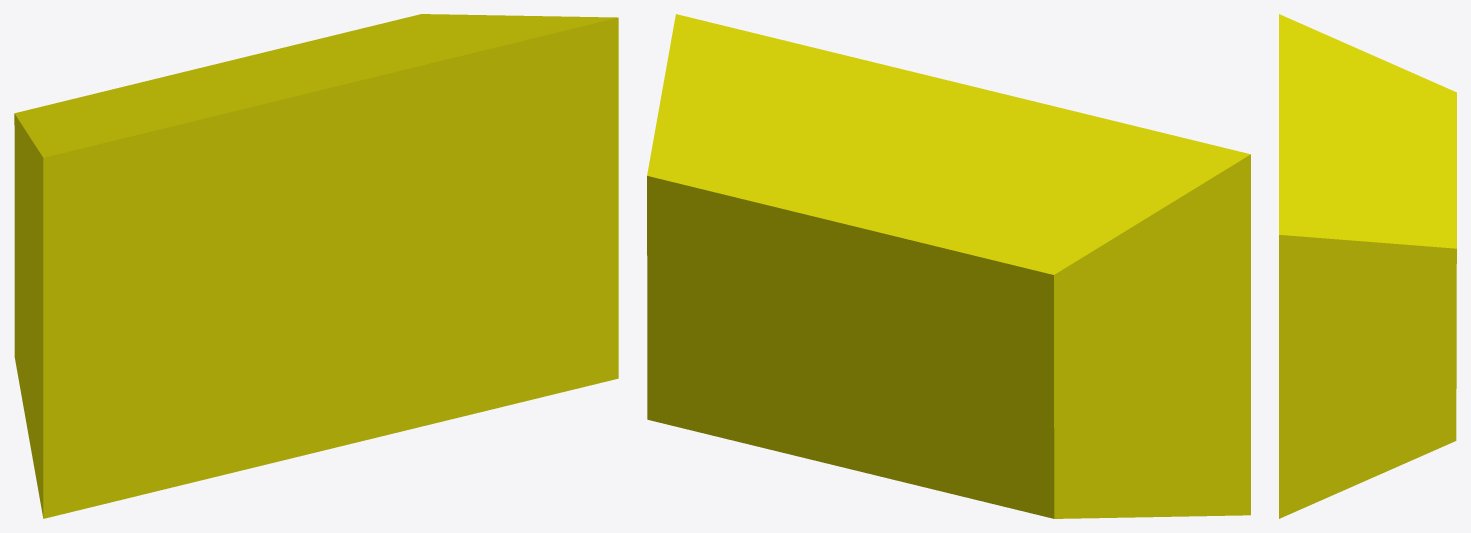
Rendered from GoldBar.fbx.
The picture shows the model from 3 angles, left to right: view 1: azimuth 30°, elevation 25°; view 2: azimuth 150°, elevation 25°; view 3: azimuth 270°, elevation 25°; orthographic projection. The views are drawn at different scales.
Visible parts, largest first — view 1: pCube7; view 2: pCube7; view 3: pCube7.
Part boxes in pixels (box(x1,y1,x2,y2)): pCube7: box(14, 14, 618, 518); pCube7: box(647, 14, 1250, 518); pCube7: box(1279, 14, 1456, 518).
Size of the model in its own units: 5 by 3 by 1.7.
